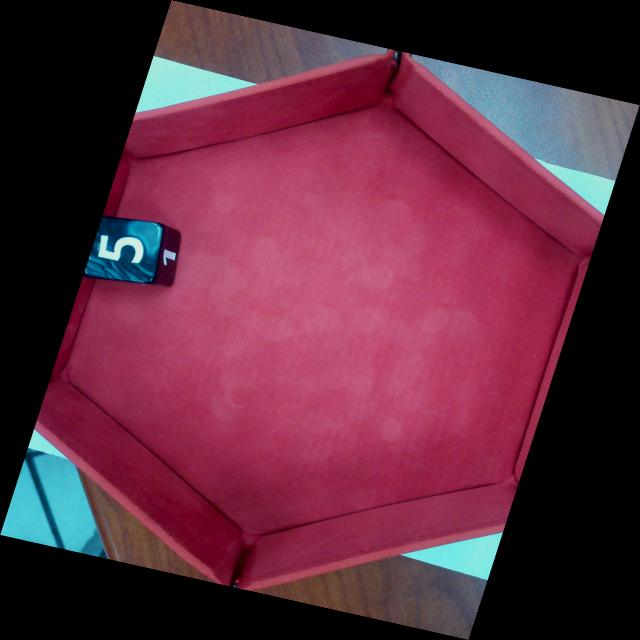dice: (84, 218, 163, 278)
